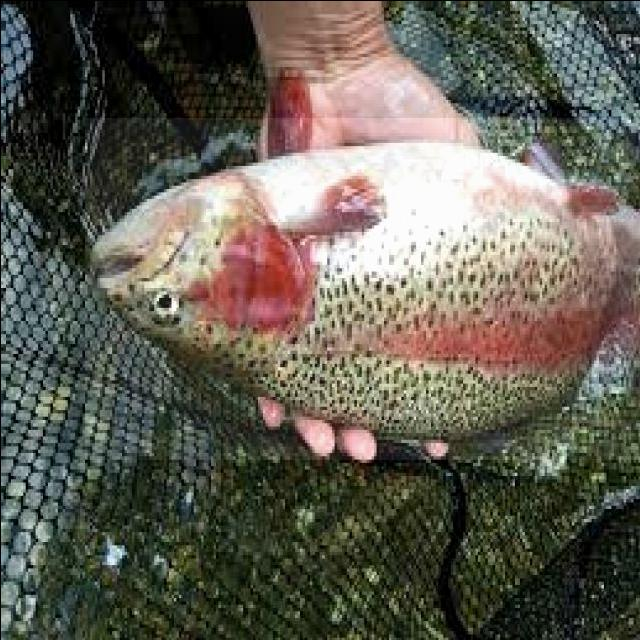EUS Disease: (84, 117, 640, 459)
